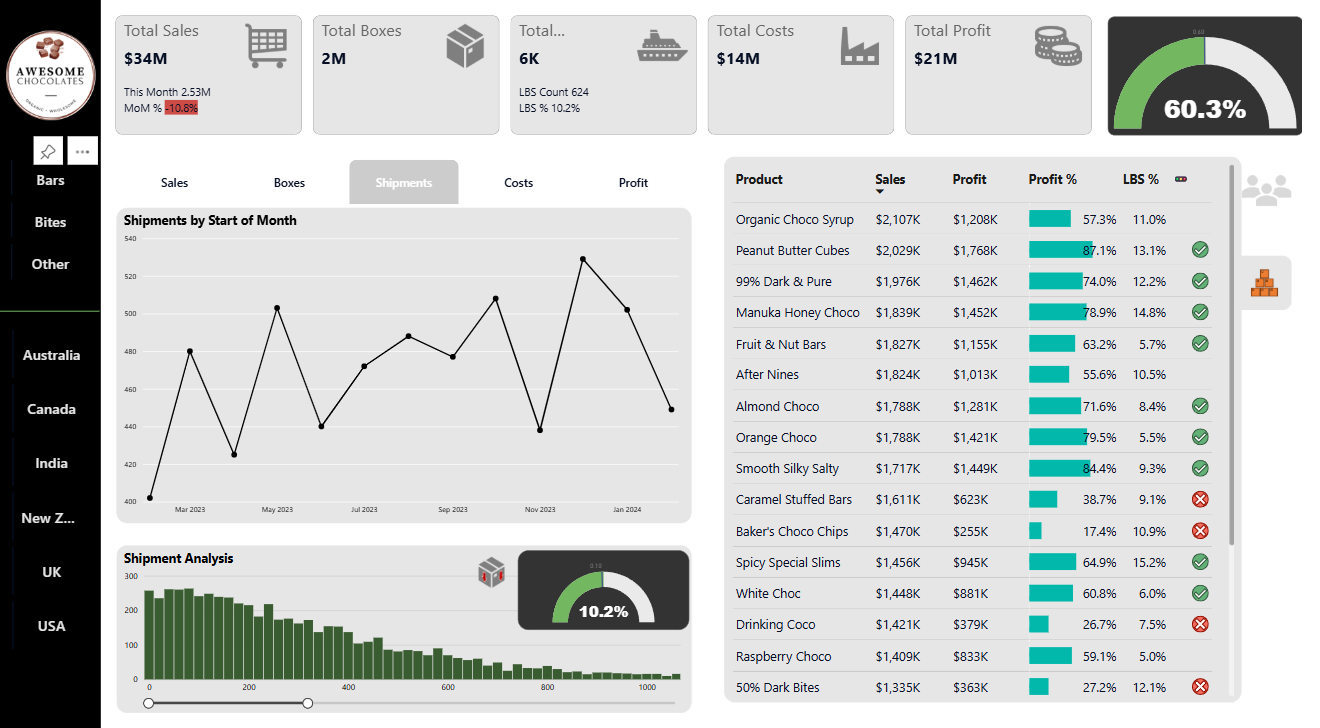

What the dashboard file says about the page in this screenshot:
{"tool":"powerbi","page":{"name":"Sales Report","canvas":[1920,1080],"ordinal":2},"visuals":[{"type":"shape","box":[0,0,150,1080],"z":0},{"type":"cardVisual","fields":{"Data":["_Measures.Total Sales","_Measures.Total Boxes","_Measures.Total Shipments","_Measures.Total Costs","_Measures.Total Profit"]},"box":[172,24,1440,176],"z":1000},{"type":"gauge","fields":{"Y":["_Measures.Profit %"]},"box":[1632.8,26,287.6,175.2],"z":2000},{"type":"image","box":[6,26,142,174],"z":3000},{"type":"lineChart","fields":{"Y":["_Measures.Total Shipments"],"Category":["calendar.Start of Month"]},"box":[172.5,307.5,847.5,465],"z":4000},{"type":"advancedSlicerVisual","fields":{"Values":["Measure Selector.Measure Selector"]},"box":[172.5,232.5,847.5,75],"z":5000},{"type":"columnChart","title":"Shipment Analysis","fields":{"Category":["shipments.Boxes (bins)"],"Y":["_Measures.Total Shipments"]},"box":[172.5,805,847.5,247.5],"z":6000},{"type":"gauge","fields":{"Y":["_Measures.LBS %"]},"box":[765,812.5,252.5,117.5],"z":7000},{"type":"image","box":[687.5,812.5,77.5,65],"z":8000},{"type":"tableEx","title":"Product Details","fields":{"Values":["products.Product","_Measures.Total Sales","_Measures.Total Profit","_Measures.Profit %","_Measures.LBS %","_Measures.Profit Target Indicator"]},"box":[1068,232,762,804],"z":10000},{"type":"image","title":"Icon1_dull","box":[1813.3,236.7,106.7,93.3],"z":11000},{"type":"advancedSlicerVisual","fields":{"Values":["products.Category"]},"box":[12,232,126,186],"z":13000},{"type":"advancedSlicerVisual","fields":{"Values":["locations.Geo"]},"box":[14,482,126,480],"z":14000},{"type":"shape","box":[0,418,148,84],"z":15000},{"type":"image","title":"icon2_highlight","box":[1820,328,90,180],"z":17000}]}

Visuals, with their boxes on the page's 1920x1080 design canvas (x1, y1, x2, y2). These are canvas units, not pixel positions in the 1320x728 screenshot, which may show the page scaled, cropped or inside an application window:
shape: 0/0/150/1080
cardVisual - _Measures.Total Sales x _Measures.Total Boxes: 172/24/1612/200
gauge - _Measures.Profit %: 1633/26/1920/201
image: 6/26/148/200
lineChart - _Measures.Total Shipments x calendar.Start of Month: 172/308/1020/772
advancedSlicerVisual - Measure Selector.Measure Selector: 172/232/1020/308
"Shipment Analysis" columnChart: 172/805/1020/1052
gauge - _Measures.LBS %: 765/812/1018/930
image: 688/812/765/878
"Product Details" tableEx: 1068/232/1830/1036
"Icon1_dull" image: 1813/237/1920/330
advancedSlicerVisual - products.Category: 12/232/138/418
advancedSlicerVisual - locations.Geo: 14/482/140/962
shape: 0/418/148/502
"icon2_highlight" image: 1820/328/1910/508
